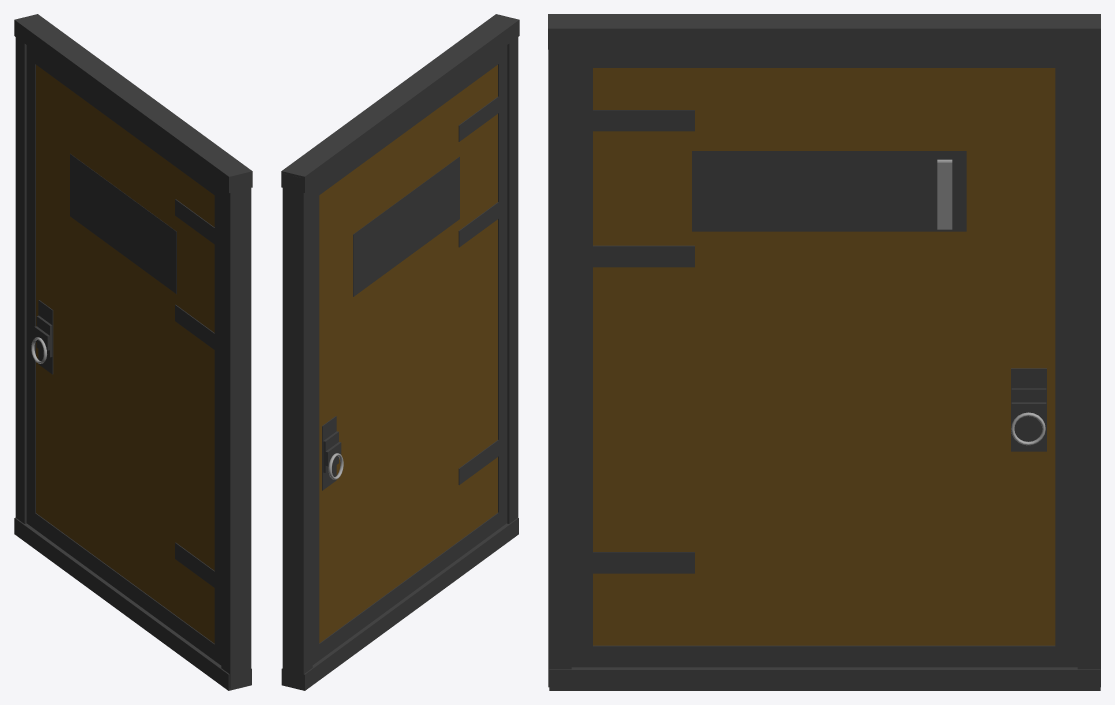
File: PortaV.2.fbx
3 views of the same model, side by side, from view 1: azimuth 30°, elevation 25°; view 2: azimuth 150°, elevation 25°; view 3: azimuth 270°, elevation 25° (orthographic). The views are drawn at different scales.
Parts seen in each view (by area): view 1: polySurface38, polySurface49, pasted__pCube2; view 2: polySurface38, polySurface49, pasted__pCube2; view 3: polySurface38, polySurface49, pasted__pCube2, pasted__pasted__pasted__pCube2.
Boxes of the visible parts, x1,y1,x2,y2 form: polySurface38: [26, 45, 221, 665]; polySurface49: [14, 14, 252, 690]; pasted__pCube2: [70, 153, 176, 294]; polySurface38: [312, 45, 507, 664]; polySurface49: [281, 14, 519, 690]; pasted__pCube2: [353, 156, 459, 296]; polySurface38: [571, 49, 1077, 667]; polySurface49: [548, 14, 1100, 690]; pasted__pCube2: [692, 151, 966, 231]; pasted__pasted__pasted__pCube2: [937, 161, 952, 229].
Size of the model in its own units: 2.2 by 31.49 by 23.83.
